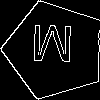M: (30, 25, 74, 71)
